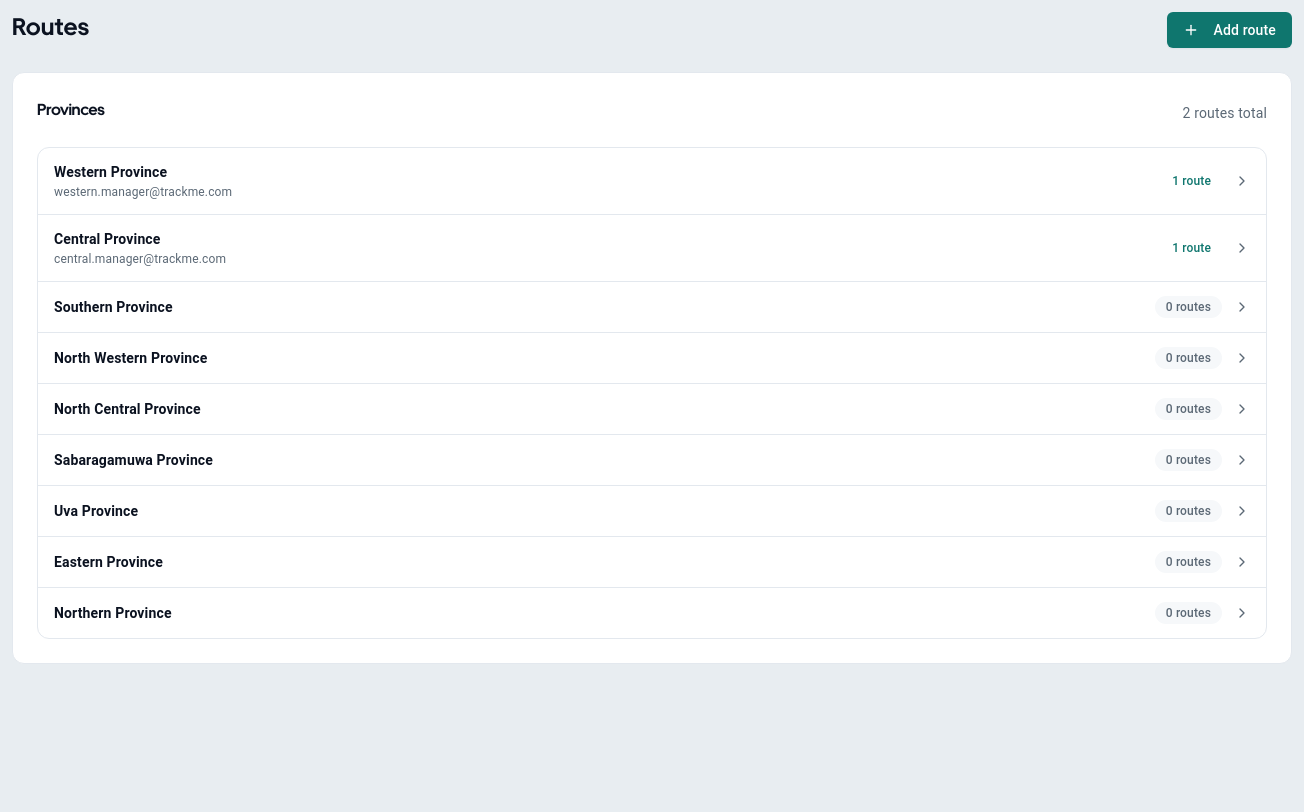
Test case: RoutesPage › shows the DataTable's specific empty message for a province with zero routes, not a generic one (issue #73)
The image size is (1304, 812).
What coordinates should you click on to do the following:
click the button "Southern Province 0 routes"
I would click on:
 (83, 307)
Its box is [38,281,1266,332].
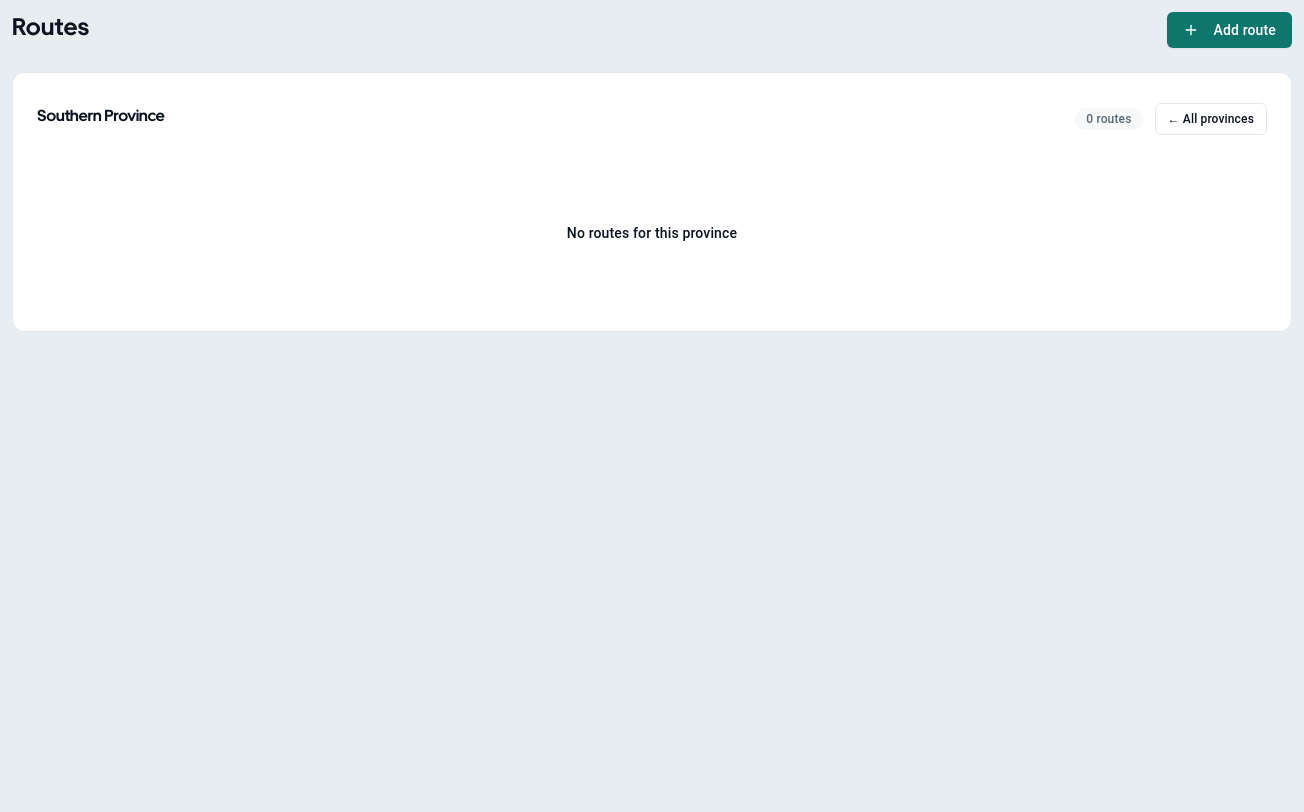
Result: the text "No routes for this province" is shown at [567,223,737,243]
